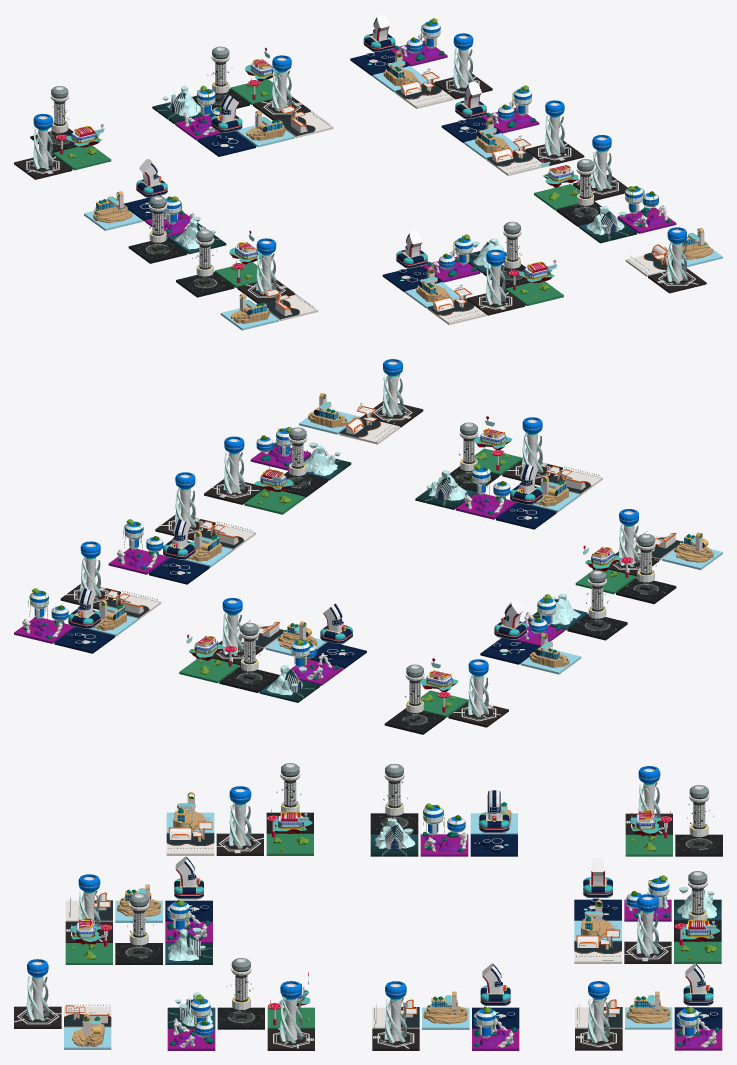
Rendered from D9_Commerce_Part_5.fbx.
The picture shows the model from 3 angles, top to bottom: view 1: azimuth 30°, elevation 25°; view 2: azimuth 150°, elevation 25°; view 3: azimuth 270°, elevation 25°; orthographic projection. The views are drawn at different scales.
Parts seen in each view (by area): view 1: Cube.782, Cube.765, Cube.778, Cube.804, Cube.796, Cube.797, Cube.774, Cube.768, Cube.776, Cube.760, Cube.761, Cube.793 (+35 smaller); view 2: Cube.788, Cube.761, Cube.793, Cube.773, Cube.778, Cube.801, Cube.787, Cube.792, Cube.758, Cube.782, Cube.774, Cube.777 (+33 smaller); view 3: Cube.773, Cube.770, Cube.804, Cube.791, Cube.796, Cube.801, Cube.786, Cube.771, Cube.777, Cube.800, Cube.763, Cube.766 (+35 smaller).
Part boxes in pixels (bbox=[...]): Cube.782: bbox=[197, 93, 255, 156]; Cube.765: bbox=[466, 249, 525, 315]; Cube.778: bbox=[14, 113, 72, 179]; Cube.804: bbox=[648, 227, 706, 293]; Cube.796: bbox=[525, 100, 584, 165]; Cube.797: bbox=[617, 186, 676, 233]; Cube.774: bbox=[128, 196, 187, 263]; Cube.768: bbox=[176, 229, 234, 297]; Cube.776: bbox=[53, 124, 111, 170]; Cube.760: bbox=[505, 260, 563, 305]; Cube.761: bbox=[382, 230, 441, 292]; Cube.793: bbox=[441, 81, 500, 142]; Cube.788: bbox=[54, 588, 114, 653]; Cube.761: bbox=[496, 464, 556, 529]; Cube.793: bbox=[149, 519, 209, 584]; Cube.773: bbox=[480, 600, 540, 664]; Cube.778: bbox=[448, 659, 508, 727]; Cube.801: bbox=[204, 436, 263, 504]; Cube.787: bbox=[14, 588, 74, 643]; Cube.792: bbox=[108, 519, 169, 574]; Cube.758: bbox=[455, 464, 516, 519]; Cube.782: bbox=[307, 603, 366, 668]; Cube.774: bbox=[567, 570, 627, 640]; Cube.777: bbox=[384, 664, 445, 734]; Cube.773: bbox=[470, 790, 517, 856]; Cube.770: bbox=[216, 786, 263, 855]; Cube.804: bbox=[14, 959, 61, 1028]; Cube.791: bbox=[575, 981, 622, 1050]; Cube.796: bbox=[372, 981, 419, 1050]; Cube.801: bbox=[267, 981, 314, 1050]; Cube.786: bbox=[624, 894, 671, 963]; Cube.771: bbox=[420, 803, 468, 856]; Cube.777: bbox=[675, 785, 722, 856]; Cube.800: bbox=[217, 958, 264, 1029]; Cube.763: bbox=[115, 893, 162, 964]; Cube.766: bbox=[266, 809, 313, 855].
Bounding box in the file's own units: 46875 × 5573 × 59698.
Materials: 22 (20 with a texture image).
